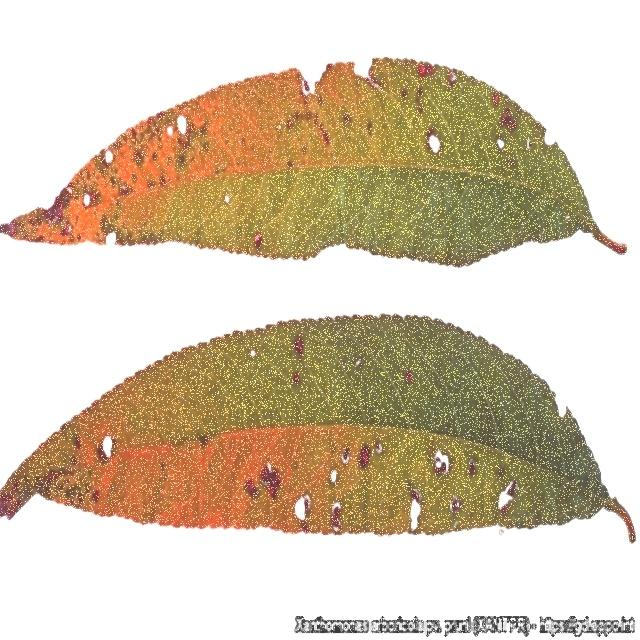shot_hole: (0, 306, 639, 539), (1, 59, 640, 292)
